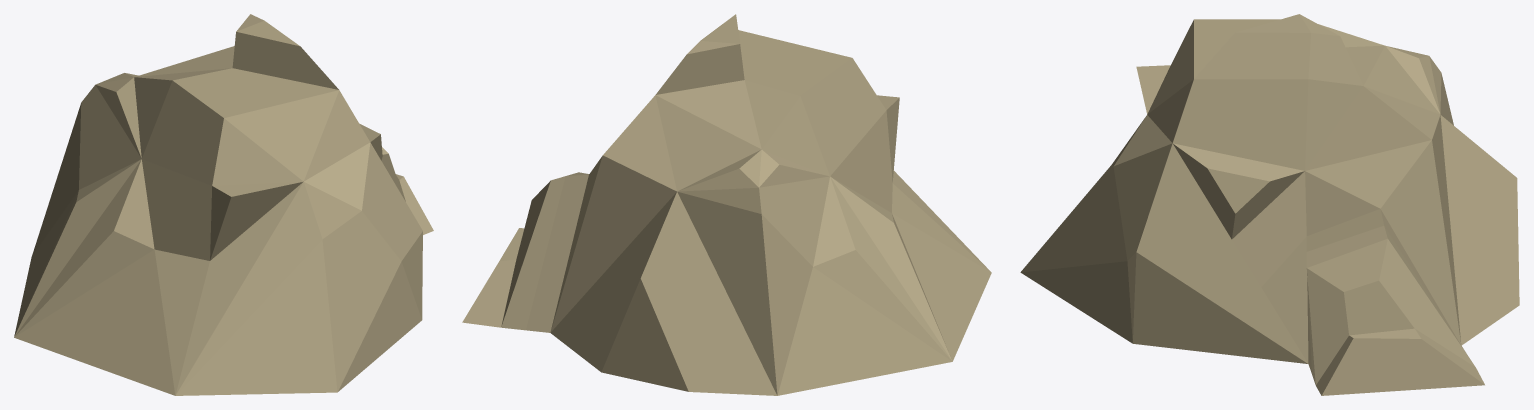
The model's file is rock1.fbx.
The picture shows the model from 3 angles, left to right: view 1: azimuth 30°, elevation 25°; view 2: azimuth 150°, elevation 25°; view 3: azimuth 270°, elevation 25°; orthographic projection. The views are drawn at different scales.
Visible parts, largest first — view 1: pCube1; view 2: pCube1; view 3: pCube1.
Boxes of the visible parts, <box> form: pCube1: <box>14,14,433,395</box>; pCube1: <box>462,14,991,395</box>; pCube1: <box>1020,14,1519,395</box>.
Bounding box in the file's own units: 12.38 × 7.18 × 11.86.
